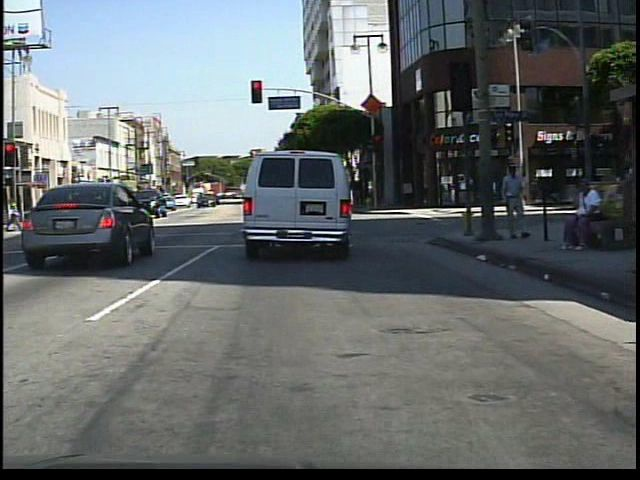person: (553, 175, 606, 254), (497, 160, 528, 243), (6, 194, 25, 237)
